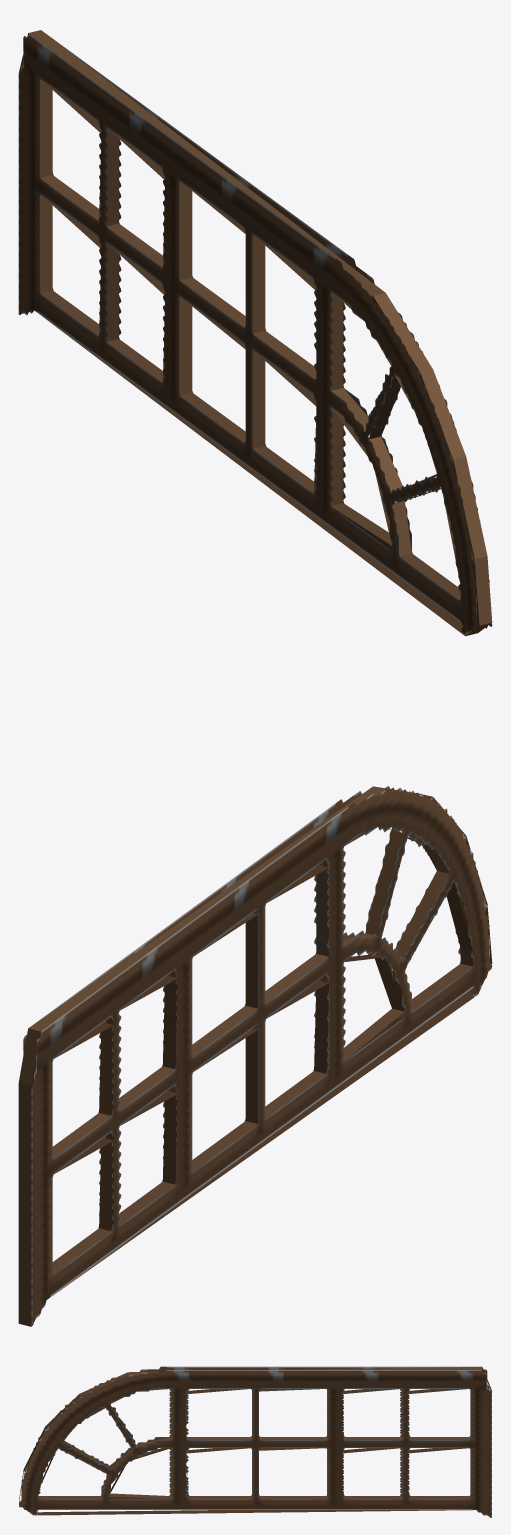
File: pz_native_fixtures_windows_wood_4_frame.obj
3 views of the same model, one above another, from view 1: azimuth 30°, elevation 25°; view 2: azimuth 150°, elevation 25°; view 3: azimuth 270°, elevation 25° (orthographic). The views are drawn at different scales.
Visible parts, largest first — view 1: pz_native_fixtures_windows_wood_4_frame; view 2: pz_native_fixtures_windows_wood_4_frame; view 3: pz_native_fixtures_windows_wood_4_frame.
Part boxes in pixels (x1,y1,x2,y2): pz_native_fixtures_windows_wood_4_frame: (18,30,492,636); pz_native_fixtures_windows_wood_4_frame: (18,786,492,1326); pz_native_fixtures_windows_wood_4_frame: (19,1366,491,1517).
Size of the model in its own units: 0.04 by 0.8906 by 2.54.
Materials: 1 (1 with a texture image).
